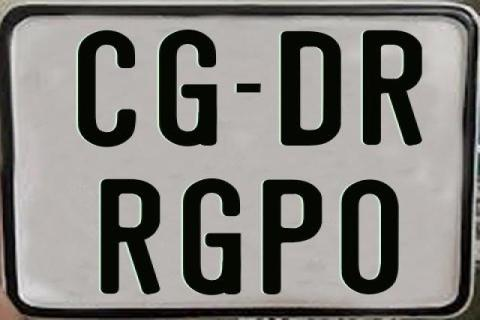0: (339, 179, 398, 297)
C: (76, 30, 140, 152)
D: (279, 29, 341, 147)
G: (183, 177, 244, 297), (158, 30, 217, 150)
P: (260, 178, 324, 296)
R: (360, 31, 423, 149), (102, 177, 164, 292)
